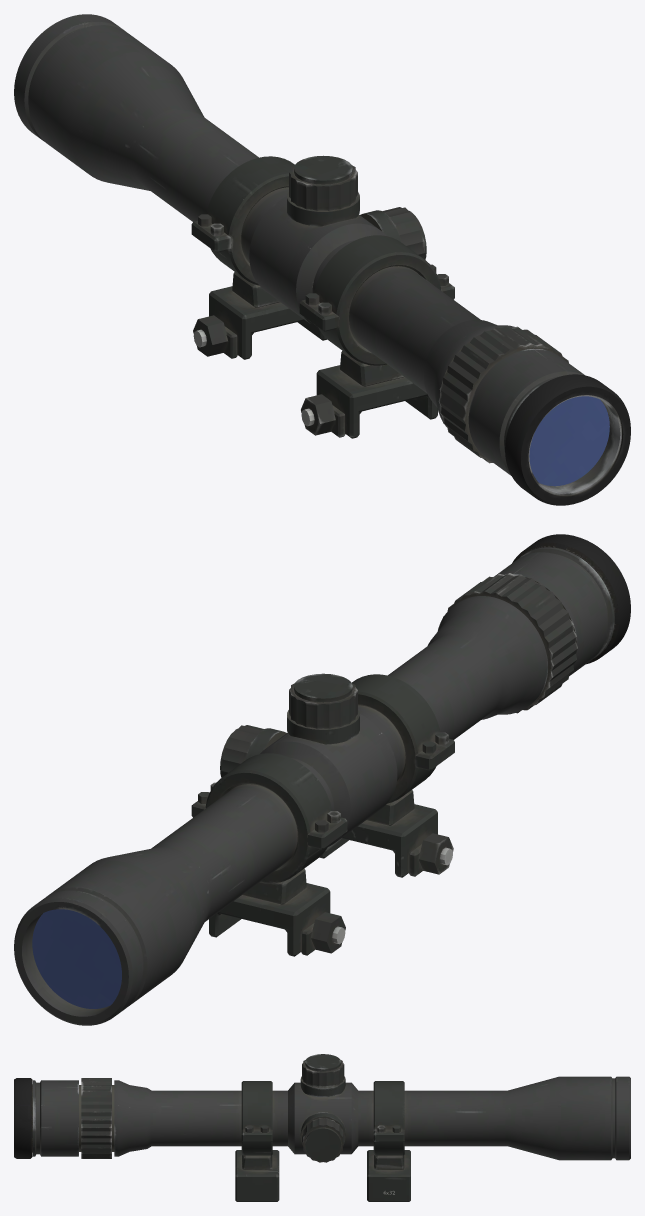
File: luneta_4x.glb
3 renders of one model, top to bottom at view 1: azimuth 30°, elevation 25°; view 2: azimuth 150°, elevation 25°; view 3: azimuth 270°, elevation 25°, orthographic. The views are drawn at different scales.
Visible parts, largest first — view 1: luneta_4x_luneta, luneta_4x_lente; view 2: luneta_4x_luneta, luneta_4x_lente; view 3: luneta_4x_luneta.
Part boxes in pixels (<box>): luneta_4x_luneta: <box>14,14,630,505</box>; luneta_4x_lente: <box>529,396,609,486</box>; luneta_4x_luneta: <box>14,534,630,1025</box>; luneta_4x_lente: <box>32,909,121,1008</box>; luneta_4x_luneta: <box>14,1054,630,1201</box>.
Bounding box in the file's own units: 0.0515 × 0.0643 × 0.2806.
Materials: 1 (1 with a texture image).
